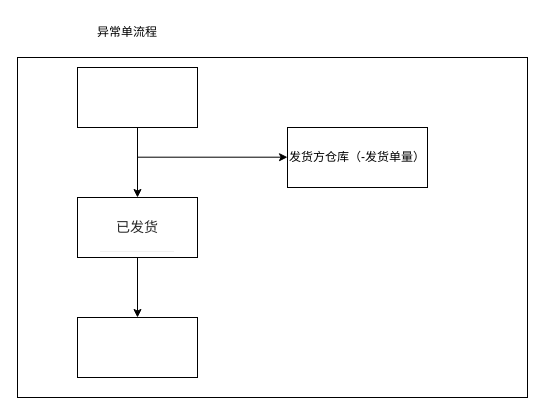
Image size: 545x415. Some labels were removed from this diagram. The shapes that lost their labels are listed below. From the top down, each one's centre as x and y in pixels, then its label:
At [137,97]: "待处理".
At [137,347]: "已完结".
